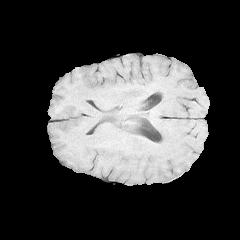glioma: (71, 106, 145, 159)
